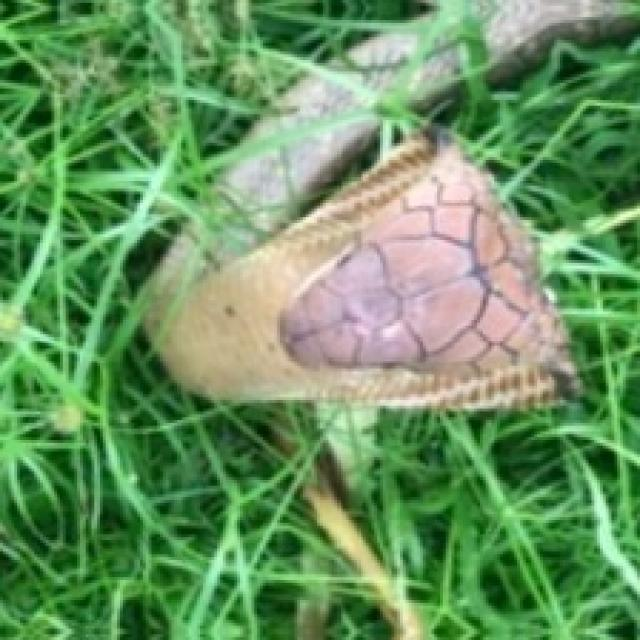king cobra: (326, 11, 637, 637), (146, 34, 574, 406), (109, 383, 389, 637), (486, 0, 620, 74)
